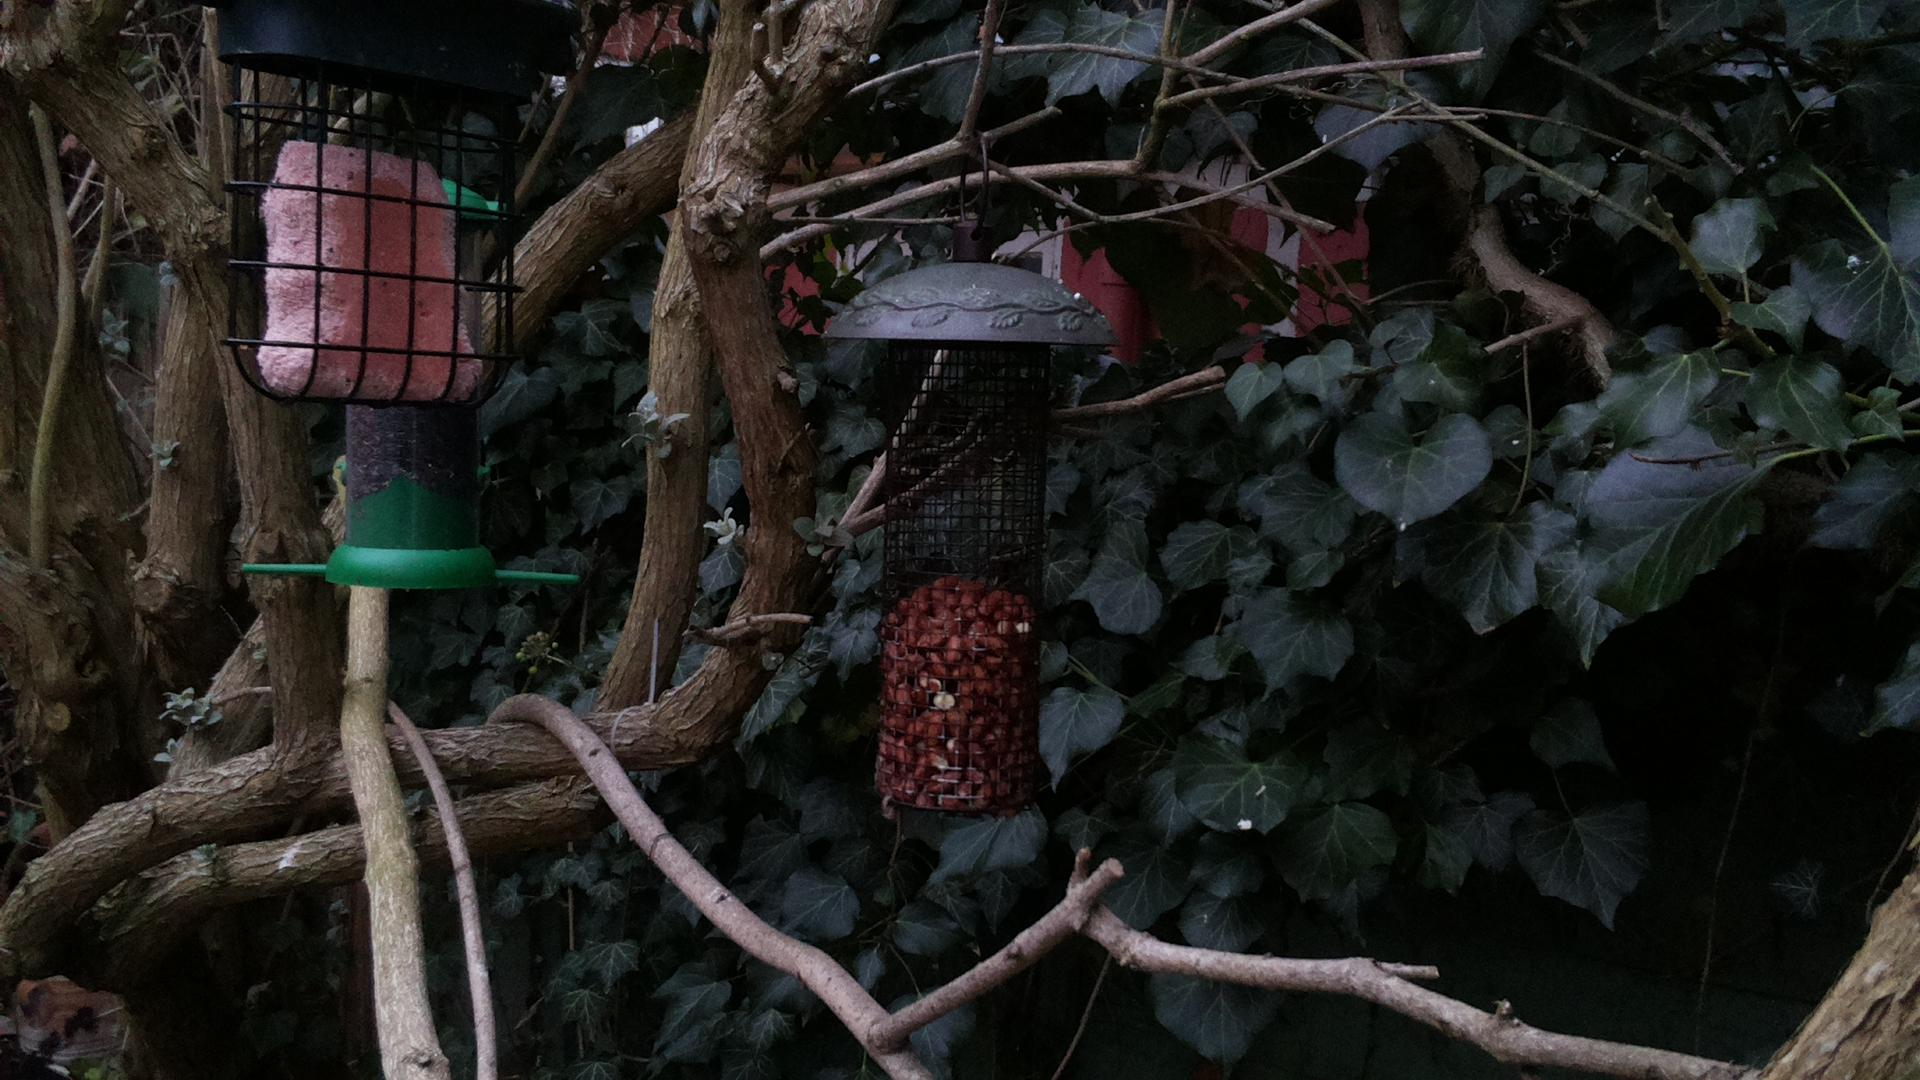unclassified: (407, 688, 723, 953), (1687, 856, 1917, 1077), (607, 129, 696, 322)
